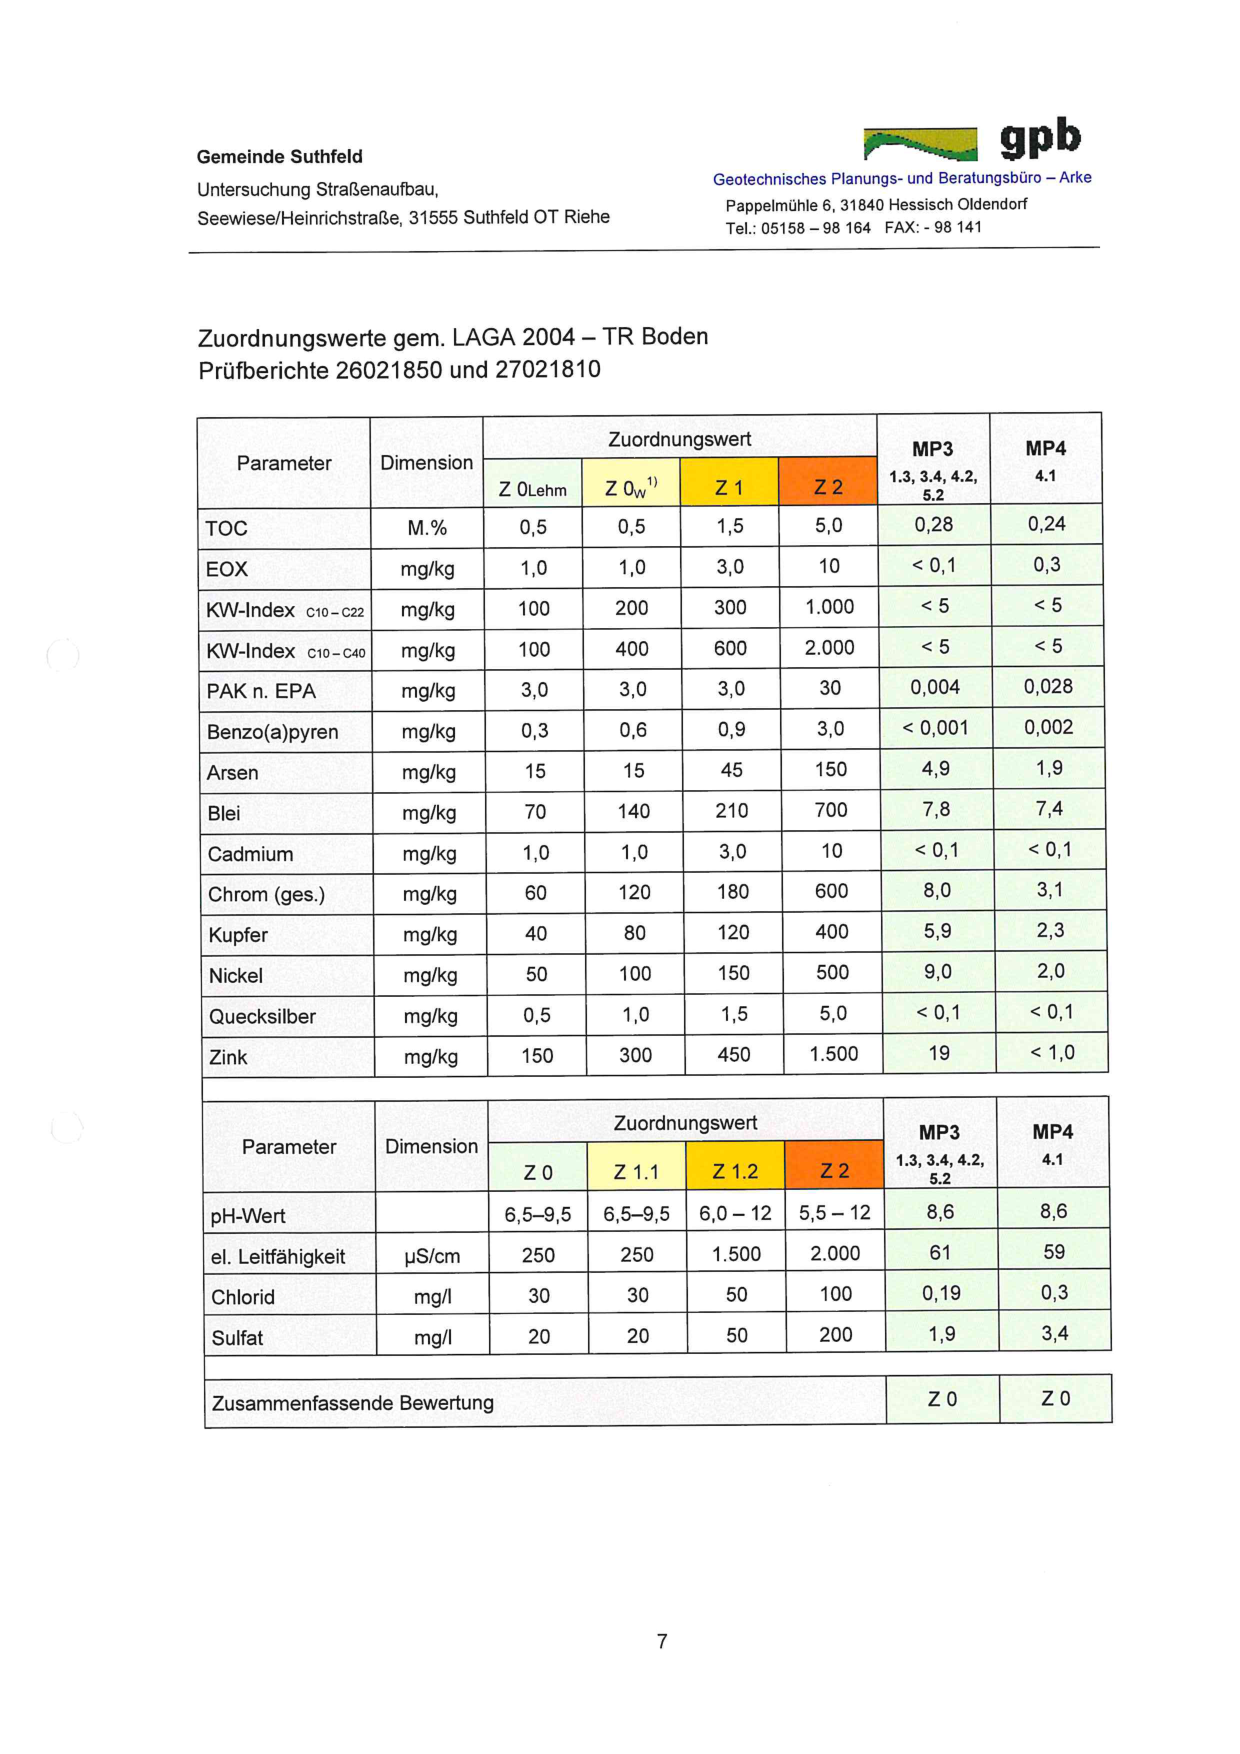table: (172, 399, 1117, 1084), (191, 1090, 1122, 1363), (189, 1368, 1125, 1443)
